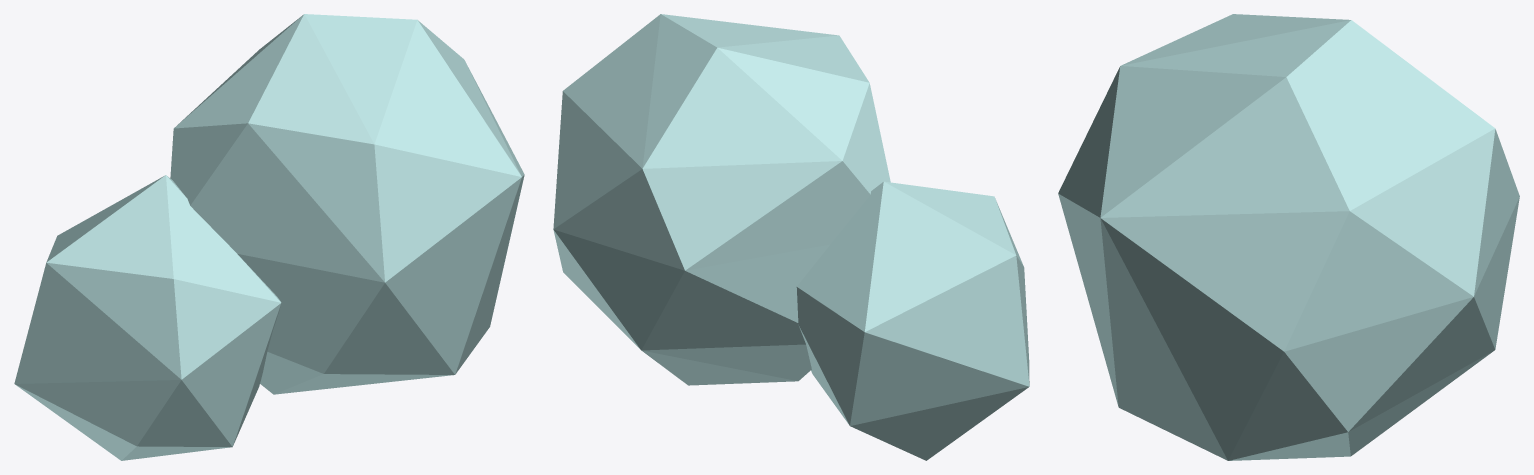
The model's file is cloud-010.glb.
The picture shows the model from 3 angles, left to right: view 1: azimuth 30°, elevation 25°; view 2: azimuth 150°, elevation 25°; view 3: azimuth 270°, elevation 25°; orthographic projection. The views are drawn at different scales.
Parts seen in each view (by area): view 1: cloud 21_33; view 2: cloud 21_33; view 3: cloud 21_33.
Part boxes in pixels (left/top/right/bottom): cloud 21_33: left=14, top=14, right=524, bottom=460; cloud 21_33: left=553, top=14, right=1029, bottom=460; cloud 21_33: left=1058, top=14, right=1519, bottom=460.
Size of the model in its own units: 1.05 by 0.7801 by 0.7127.
